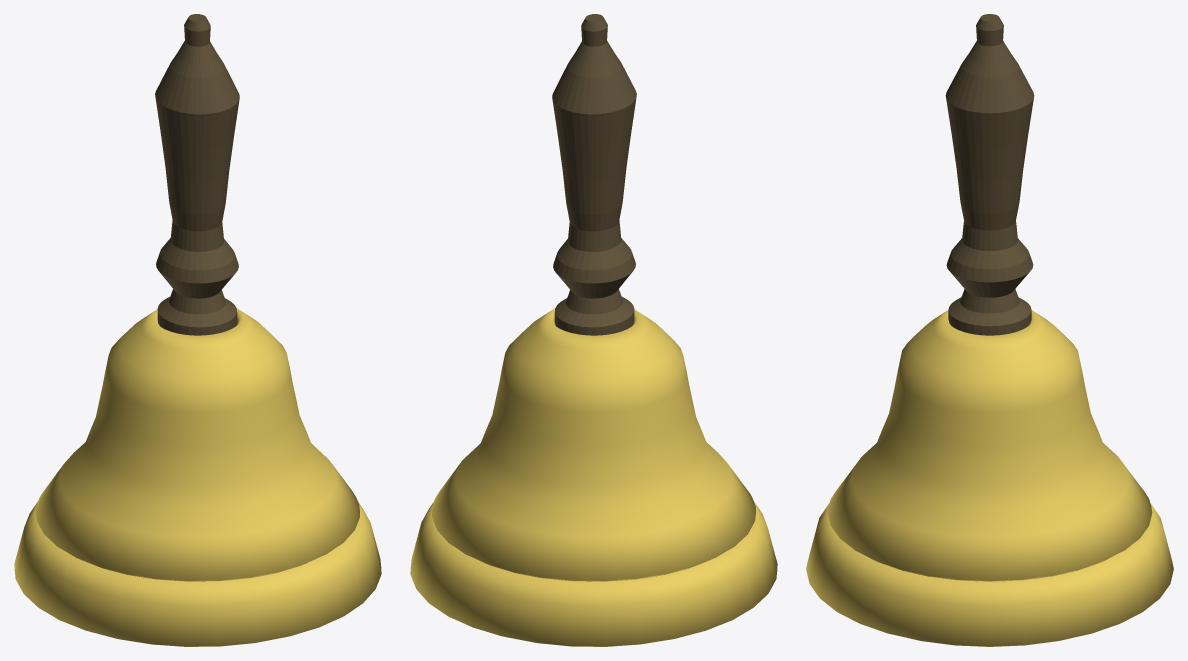
The model's file is Bell.fbx.
3 renders of one model, left to right at view 1: azimuth 30°, elevation 25°; view 2: azimuth 150°, elevation 25°; view 3: azimuth 270°, elevation 25°, orthographic.
Parts seen in each view (by area): view 1: Circle, Cylinder; view 2: Circle, Cylinder; view 3: Circle, Cylinder.
Boxes of the visible parts, left/top/right/bottom form: Circle: left=14, top=308, right=381, bottom=646; Cylinder: left=155, top=14, right=239, bottom=335; Circle: left=410, top=308, right=777, bottom=646; Cylinder: left=552, top=14, right=636, bottom=335; Circle: left=806, top=310, right=1173, bottom=646; Cylinder: left=945, top=14, right=1034, bottom=335.
Bounding box in the file's own units: 0.898 × 1.49 × 0.898.
